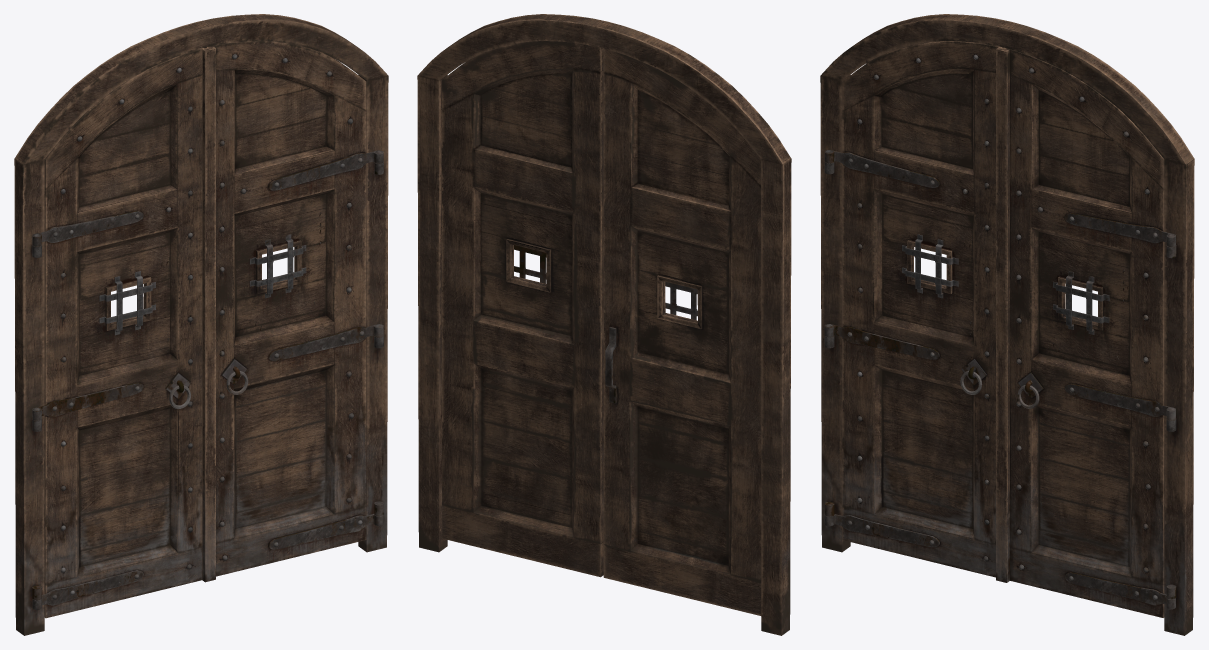
Rendered from large_castle_door_closed_2k.gltf.
3 views of the same model, side by side, from view 1: azimuth 30°, elevation 25°; view 2: azimuth 150°, elevation 25°; view 3: azimuth 330°, elevation 25° (orthographic).
Visible parts, largest first — view 1: large_castle_door_right, large_castle_door_left, large_castle_door_frame; view 2: large_castle_door_right, large_castle_door_left, large_castle_door_frame; view 3: large_castle_door_right, large_castle_door_left, large_castle_door_frame.
Boxes of the visible parts, box(x1,y1,x2,y2) form: large_castle_door_right: box(202, 41, 383, 582); large_castle_door_left: box(32, 48, 204, 618); large_castle_door_frame: box(14, 14, 388, 635); large_castle_door_right: box(442, 41, 603, 577); large_castle_door_left: box(603, 48, 761, 615); large_castle_door_frame: box(417, 14, 791, 635); large_castle_door_right: box(996, 47, 1175, 617); large_castle_door_left: box(824, 41, 1004, 577); large_castle_door_frame: box(820, 14, 1194, 635).
Size of the model in its own units: 2.01 by 2.96 by 0.1562.
1 material, 1 textured.
